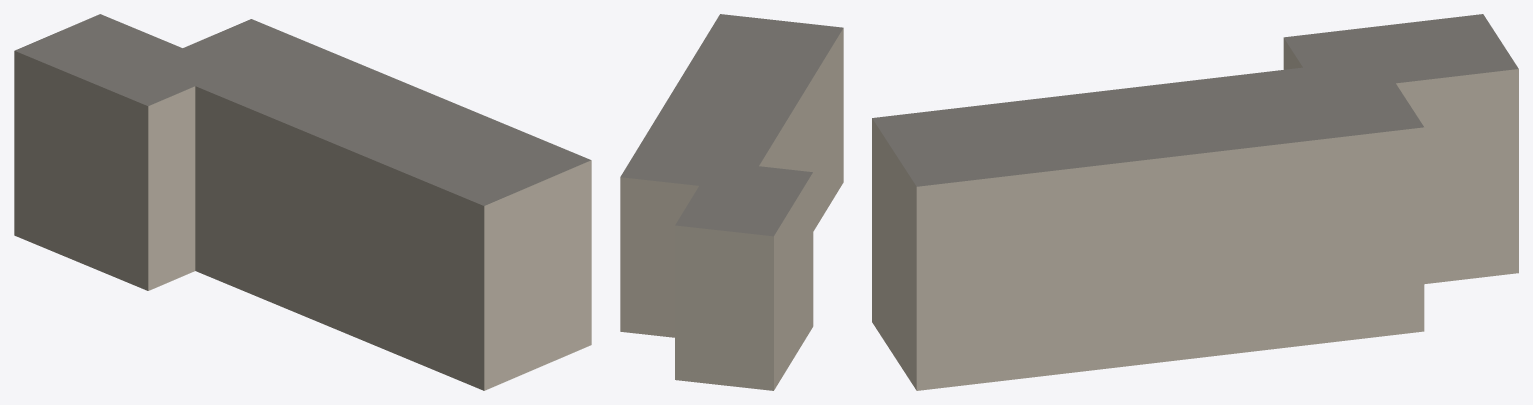
3 views of the same model, side by side, from view 1: azimuth 30°, elevation 25°; view 2: azimuth 150°, elevation 25°; view 3: azimuth 270°, elevation 25° (orthographic). The views are drawn at different scales.
Parts seen in each view (by area): view 1: HP-w859447890; view 2: HP-w859447890; view 3: HP-w859447890.
Part boxes in pixels (x1,y1,x2,y2): HP-w859447890: (14,14,591,390); HP-w859447890: (620,14,843,390); HP-w859447890: (872,14,1518,390).
Size of the model in its own units: 32.67 by 18 by 51.68.
